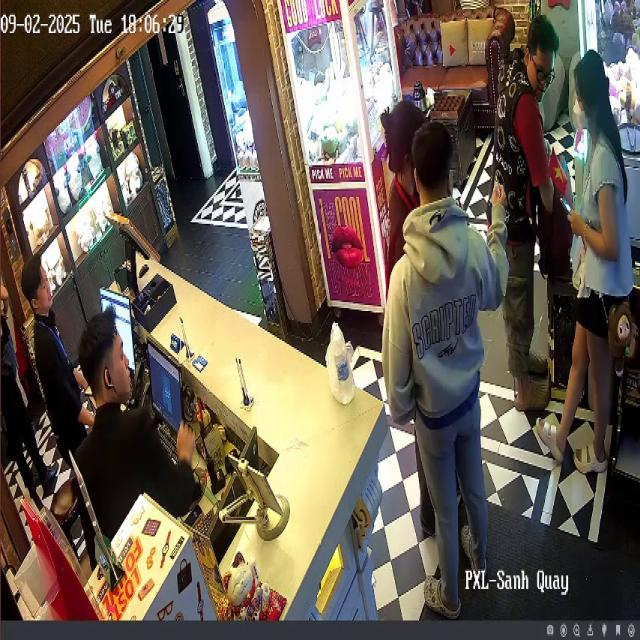khach: (381, 138, 526, 606), (554, 40, 634, 525), (481, 3, 564, 445), (372, 90, 443, 485)
nhan vien: (70, 305, 249, 536), (11, 228, 95, 459)
